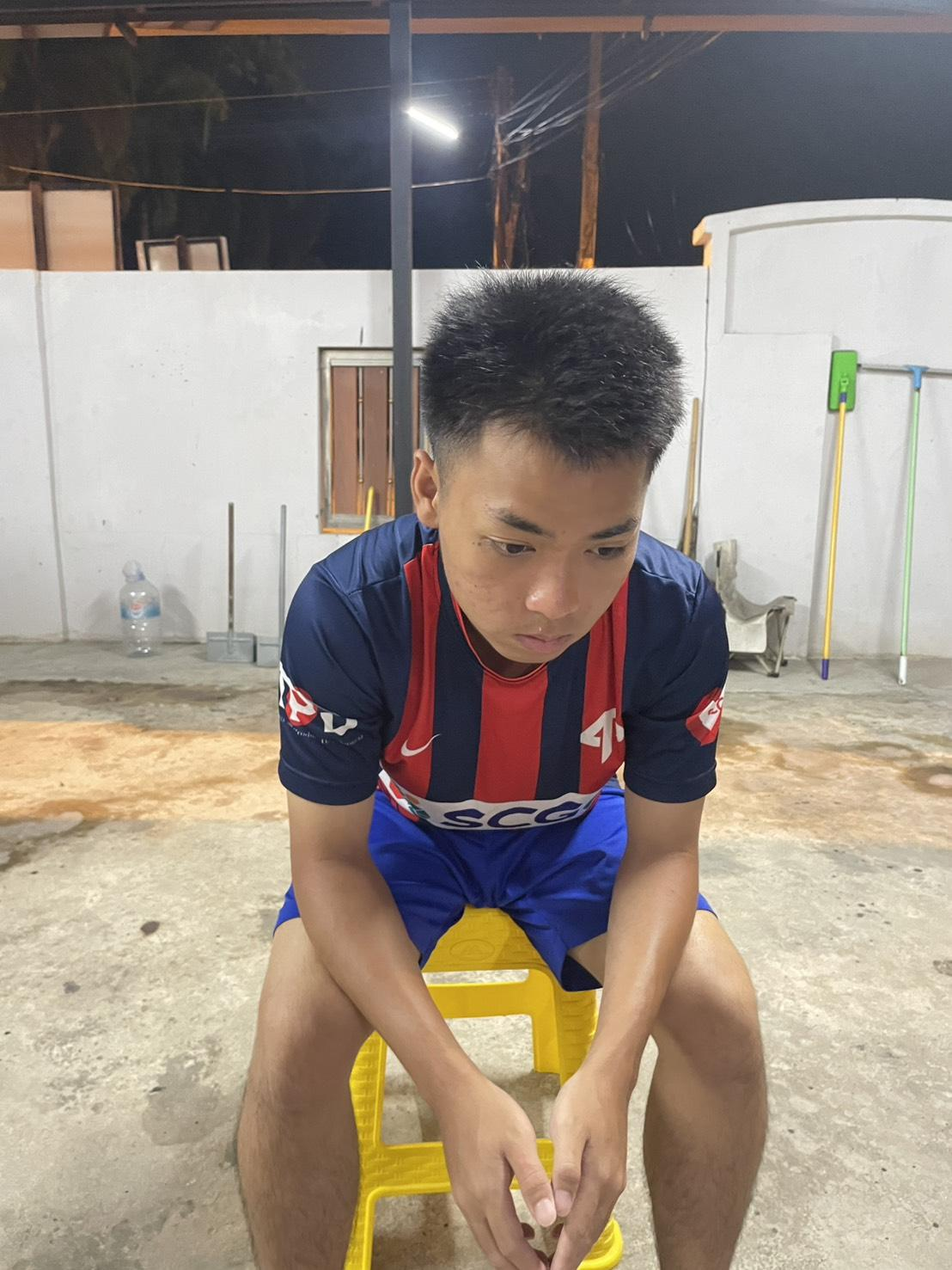BadPosture: (278, 272, 728, 836), (279, 273, 728, 837), (279, 272, 726, 837), (279, 273, 728, 833)
